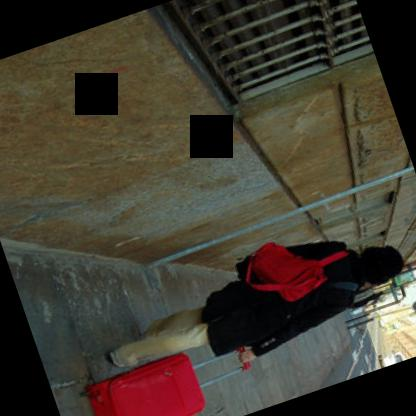backpack: (244, 240, 348, 305)
handbag: (243, 240, 347, 302)
suitcase: (77, 354, 205, 416)
